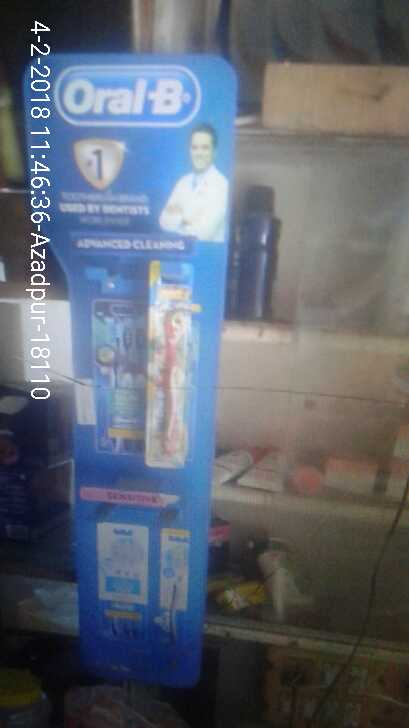oralb: (157, 303, 197, 470)
